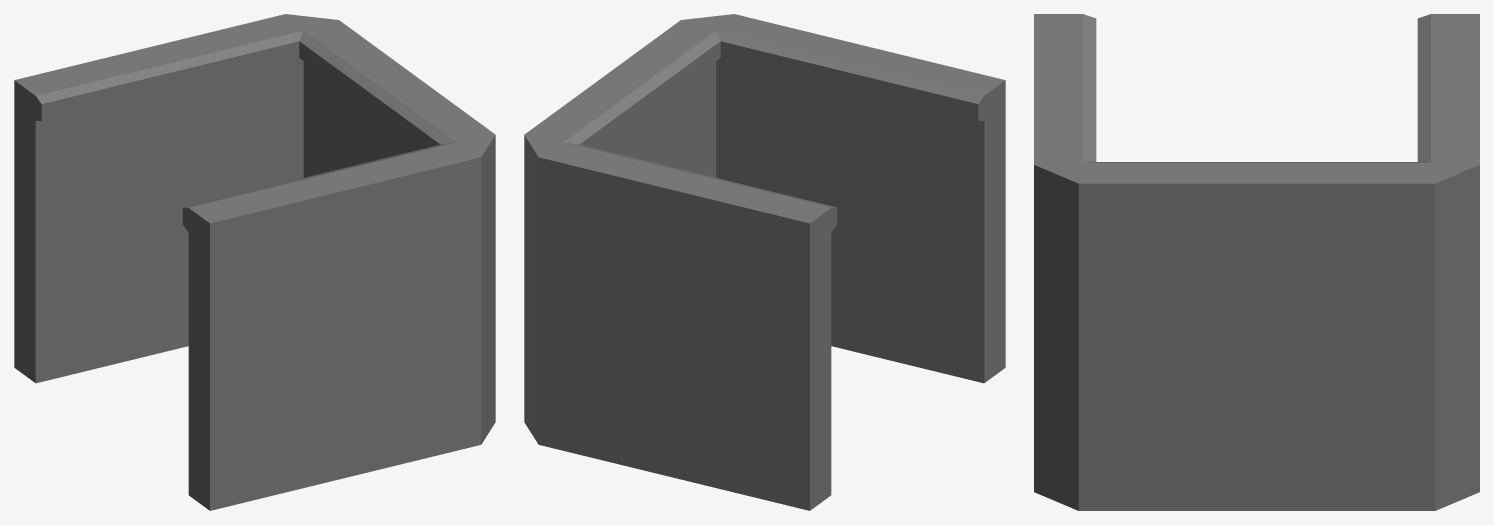
File: Stone Wall 6.fbx
3 views of the same model, side by side, from view 1: azimuth 30°, elevation 25°; view 2: azimuth 150°, elevation 25°; view 3: azimuth 270°, elevation 25° (orthographic). The views are drawn at different scales.
Parts seen in each view (by area): view 1: Stone_Wall_6; view 2: Stone_Wall_6; view 3: Stone_Wall_6.
Boxes of the visible parts, x1,y1,x2,y2 form: Stone_Wall_6: [14, 14, 495, 510]; Stone_Wall_6: [524, 14, 1005, 510]; Stone_Wall_6: [1034, 14, 1479, 510].
Size of the model in its own units: 4.5 by 4.05 by 5.
